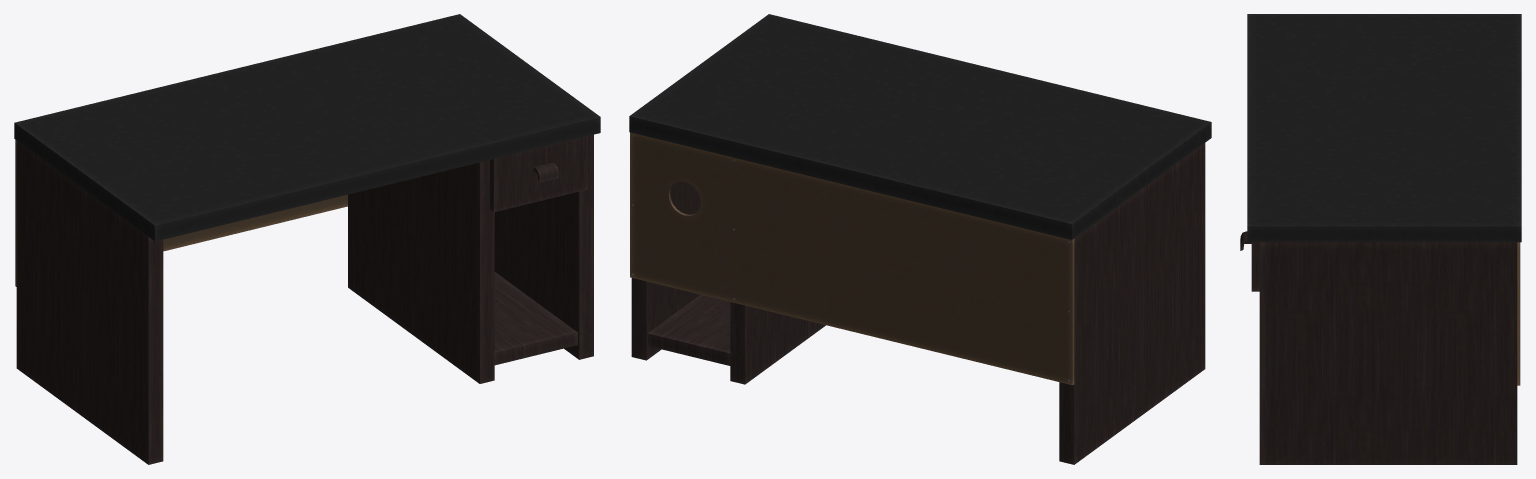
Rendered from Desk Table Black.glb.
3 views of the same model, side by side, from view 1: azimuth 30°, elevation 25°; view 2: azimuth 150°, elevation 25°; view 3: azimuth 270°, elevation 25° (orthographic). The views are drawn at different scales.
Visible parts, largest first — view 1: desk_body, desk_drawer; view 2: desk_body; view 3: desk_body, desk_drawer.
Part boxes in pixels (left/top/right/bottom): desk_body: left=14, top=14, right=600, bottom=464; desk_drawer: left=490, top=136, right=587, bottom=212; desk_body: left=629, top=14, right=1211, bottom=464; desk_body: left=1247, top=14, right=1521, bottom=464; desk_drawer: left=1240, top=231, right=1259, bottom=291.
Size of the model in its own units: 1.87 by 0.9801 by 1.05.
Materials: 1 (1 with a texture image).
